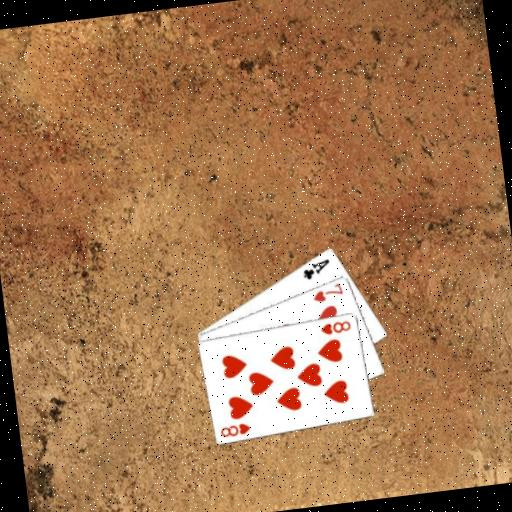7H: (309, 280, 346, 305)
8H: (317, 317, 353, 338), (217, 419, 253, 440)
AC: (299, 256, 334, 283)
